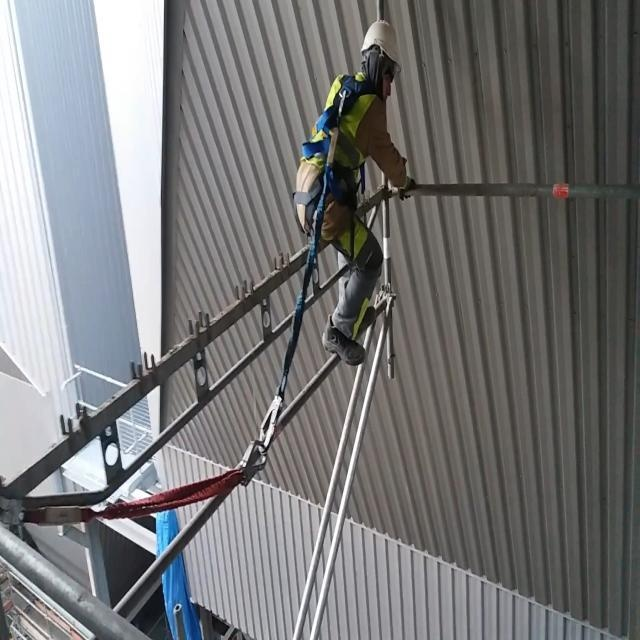Arnes_seguridad: (290, 51, 385, 247)
